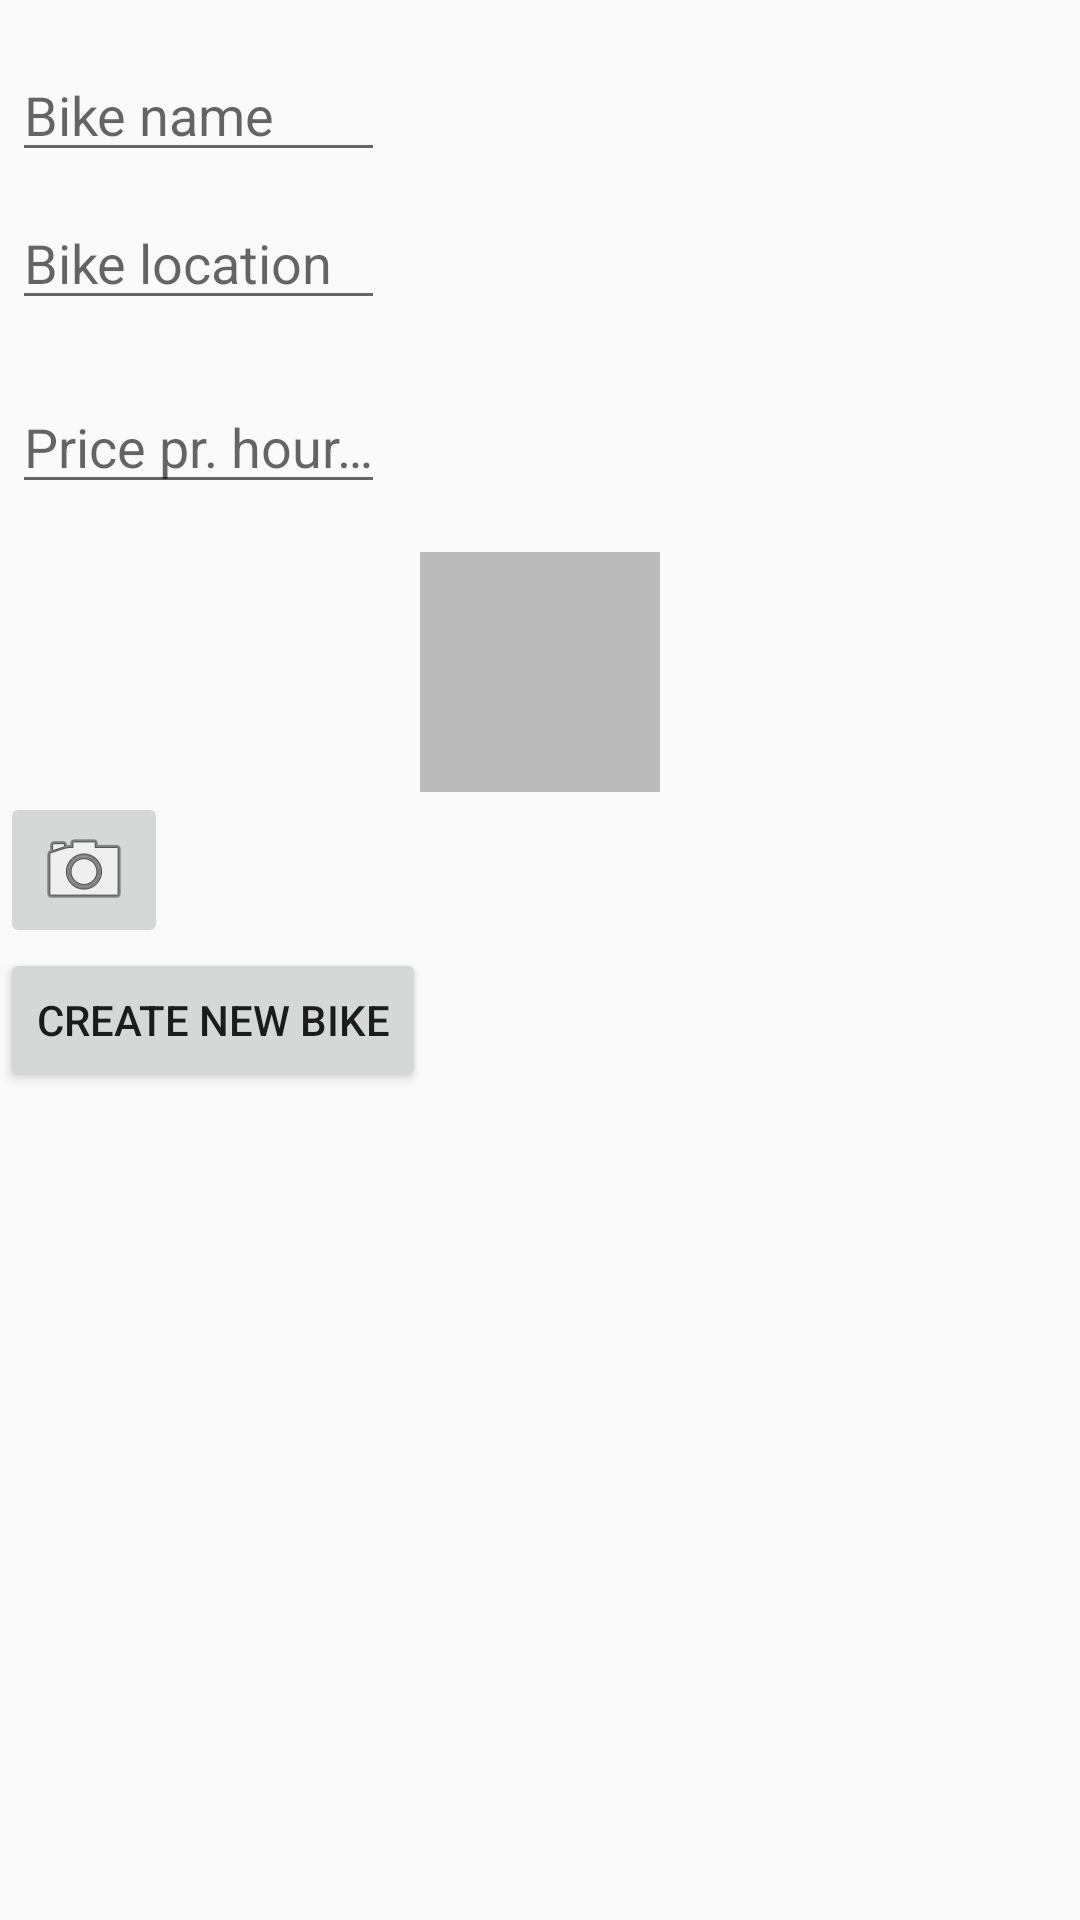

Screen size 1080px x 1920px. Icon name, then its center in pixels as point (x, y):
camera: point (84, 870)
